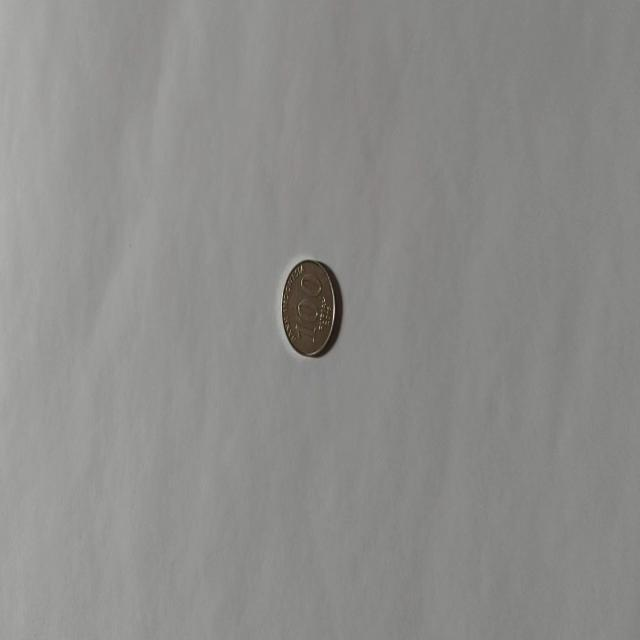seratus rupiah: (280, 258, 336, 358)
